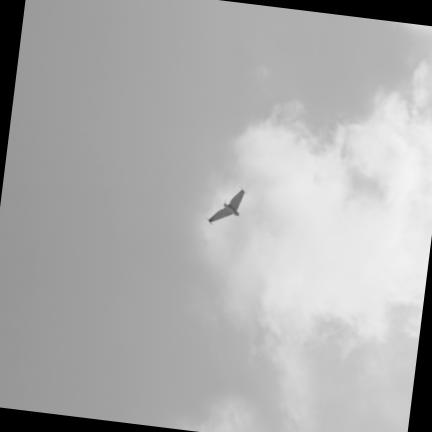Shahed: (207, 187, 246, 223)
